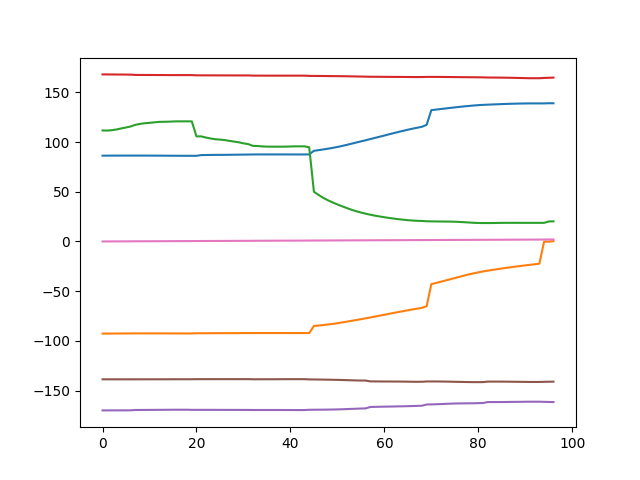Good_Bicep_Curl_Down: (1, 2, 640, 480)
